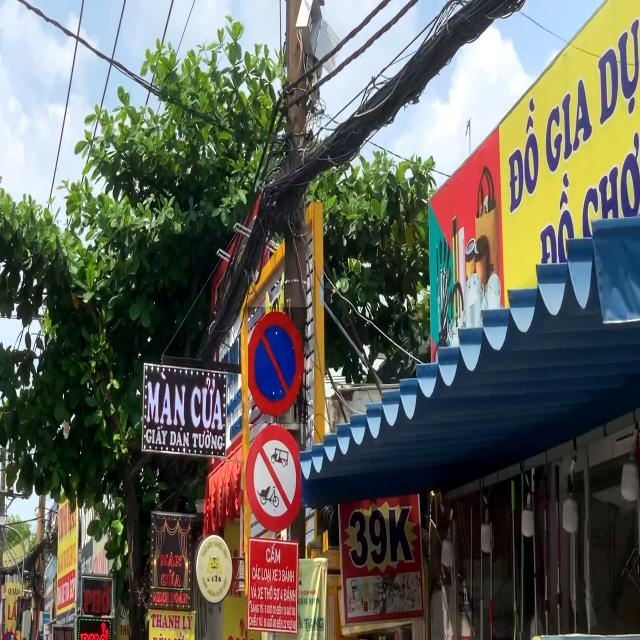bien_cam: (248, 307, 308, 424)
